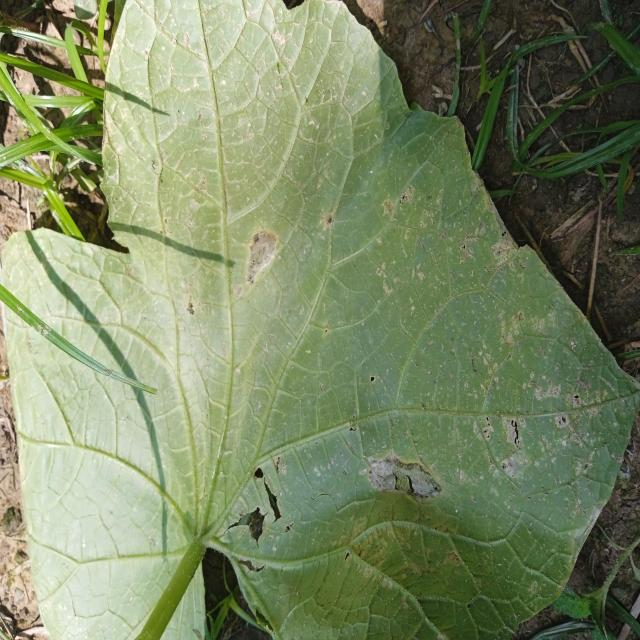cucumber_anthracnose: (213, 346, 611, 552), (140, 177, 510, 320)
